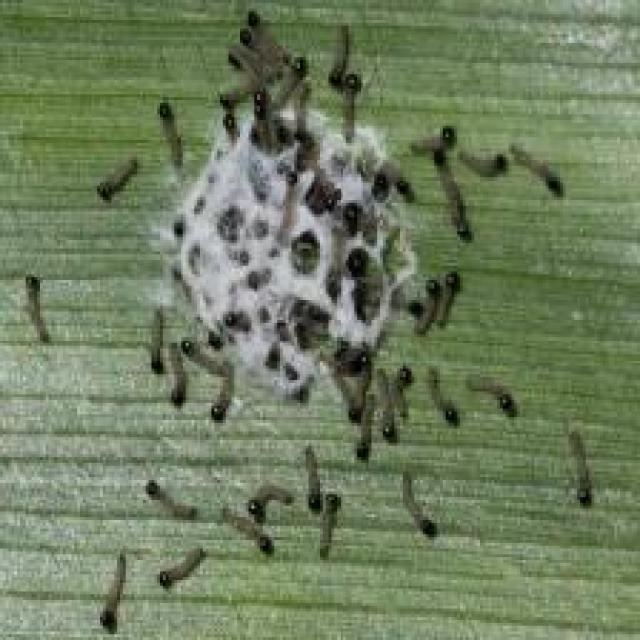Plaga: (465, 349, 520, 424), (220, 497, 271, 568), (558, 427, 595, 524), (427, 167, 470, 250), (512, 130, 561, 201), (150, 546, 210, 603), (88, 148, 137, 217), (94, 547, 131, 638), (144, 464, 195, 524), (422, 357, 457, 437), (341, 82, 378, 151), (268, 48, 311, 105), (397, 477, 434, 542), (327, 10, 355, 93), (295, 438, 324, 518), (17, 271, 42, 354), (460, 144, 508, 187), (143, 304, 168, 381), (402, 121, 457, 155), (440, 262, 465, 334), (315, 491, 338, 565), (244, 485, 295, 514), (163, 93, 180, 176), (420, 272, 437, 344)
